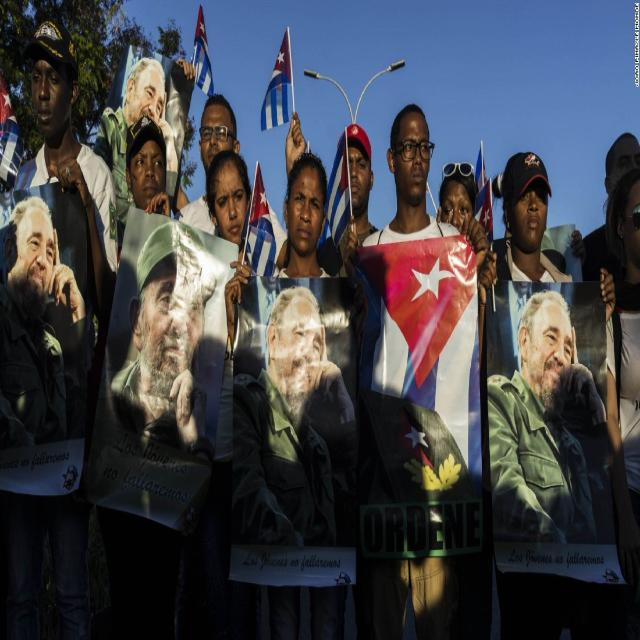body: (1, 219, 640, 638), (341, 122, 489, 638), (346, 102, 482, 640), (7, 14, 119, 326), (172, 91, 308, 271), (224, 149, 340, 350), (475, 149, 575, 372), (600, 162, 640, 640), (99, 42, 188, 207), (576, 128, 640, 287), (438, 161, 510, 276), (202, 145, 262, 281), (491, 277, 541, 384), (123, 113, 173, 218), (539, 230, 570, 275)
